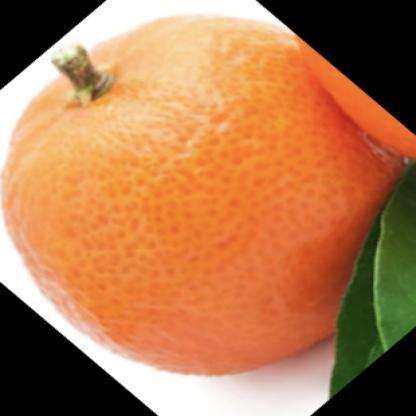fresh: (6, 16, 416, 373)
